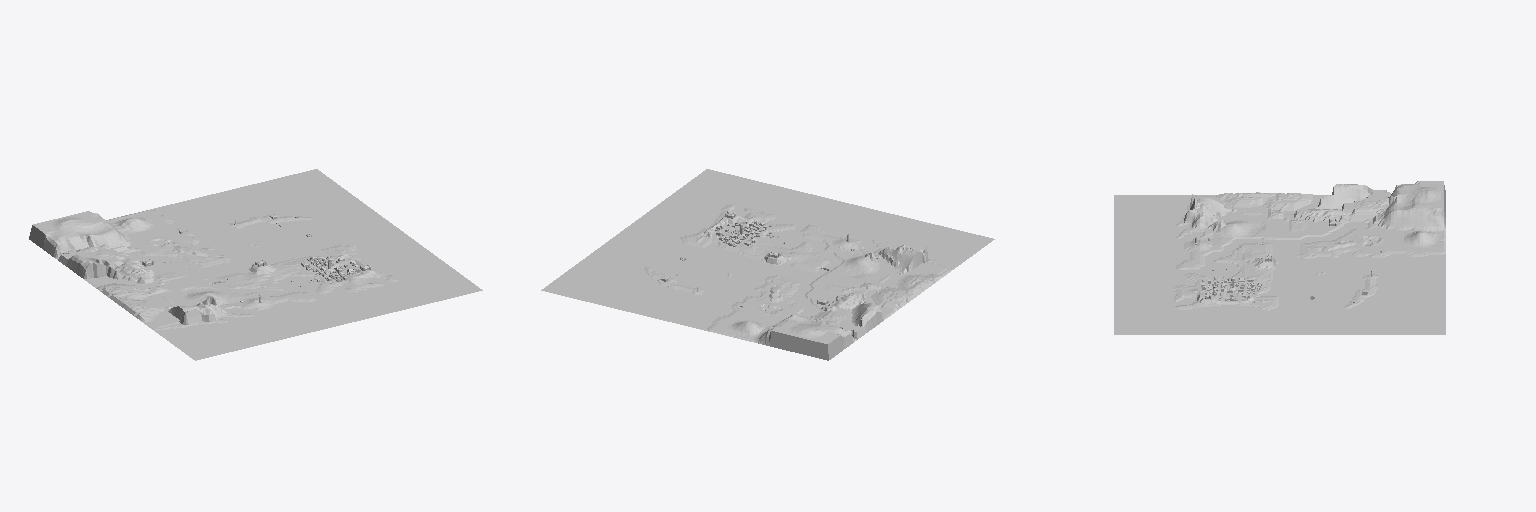
Rendered from OutD1.Odm.obj.
3 renders of one model, left to right at view 1: azimuth 30°, elevation 25°; view 2: azimuth 150°, elevation 25°; view 3: azimuth 270°, elevation 25°, orthographic.
Parts seen in each view (by area): view 1: _Ground_; view 2: _Ground_; view 3: _Ground_.
Boxes of the visible parts, <box> form: _Ground_: <box>29,169,482,360</box>; _Ground_: <box>541,169,994,360</box>; _Ground_: <box>1114,181,1445,334</box>.
Size of the model in its own units: 65024 by 3808 by 65024.